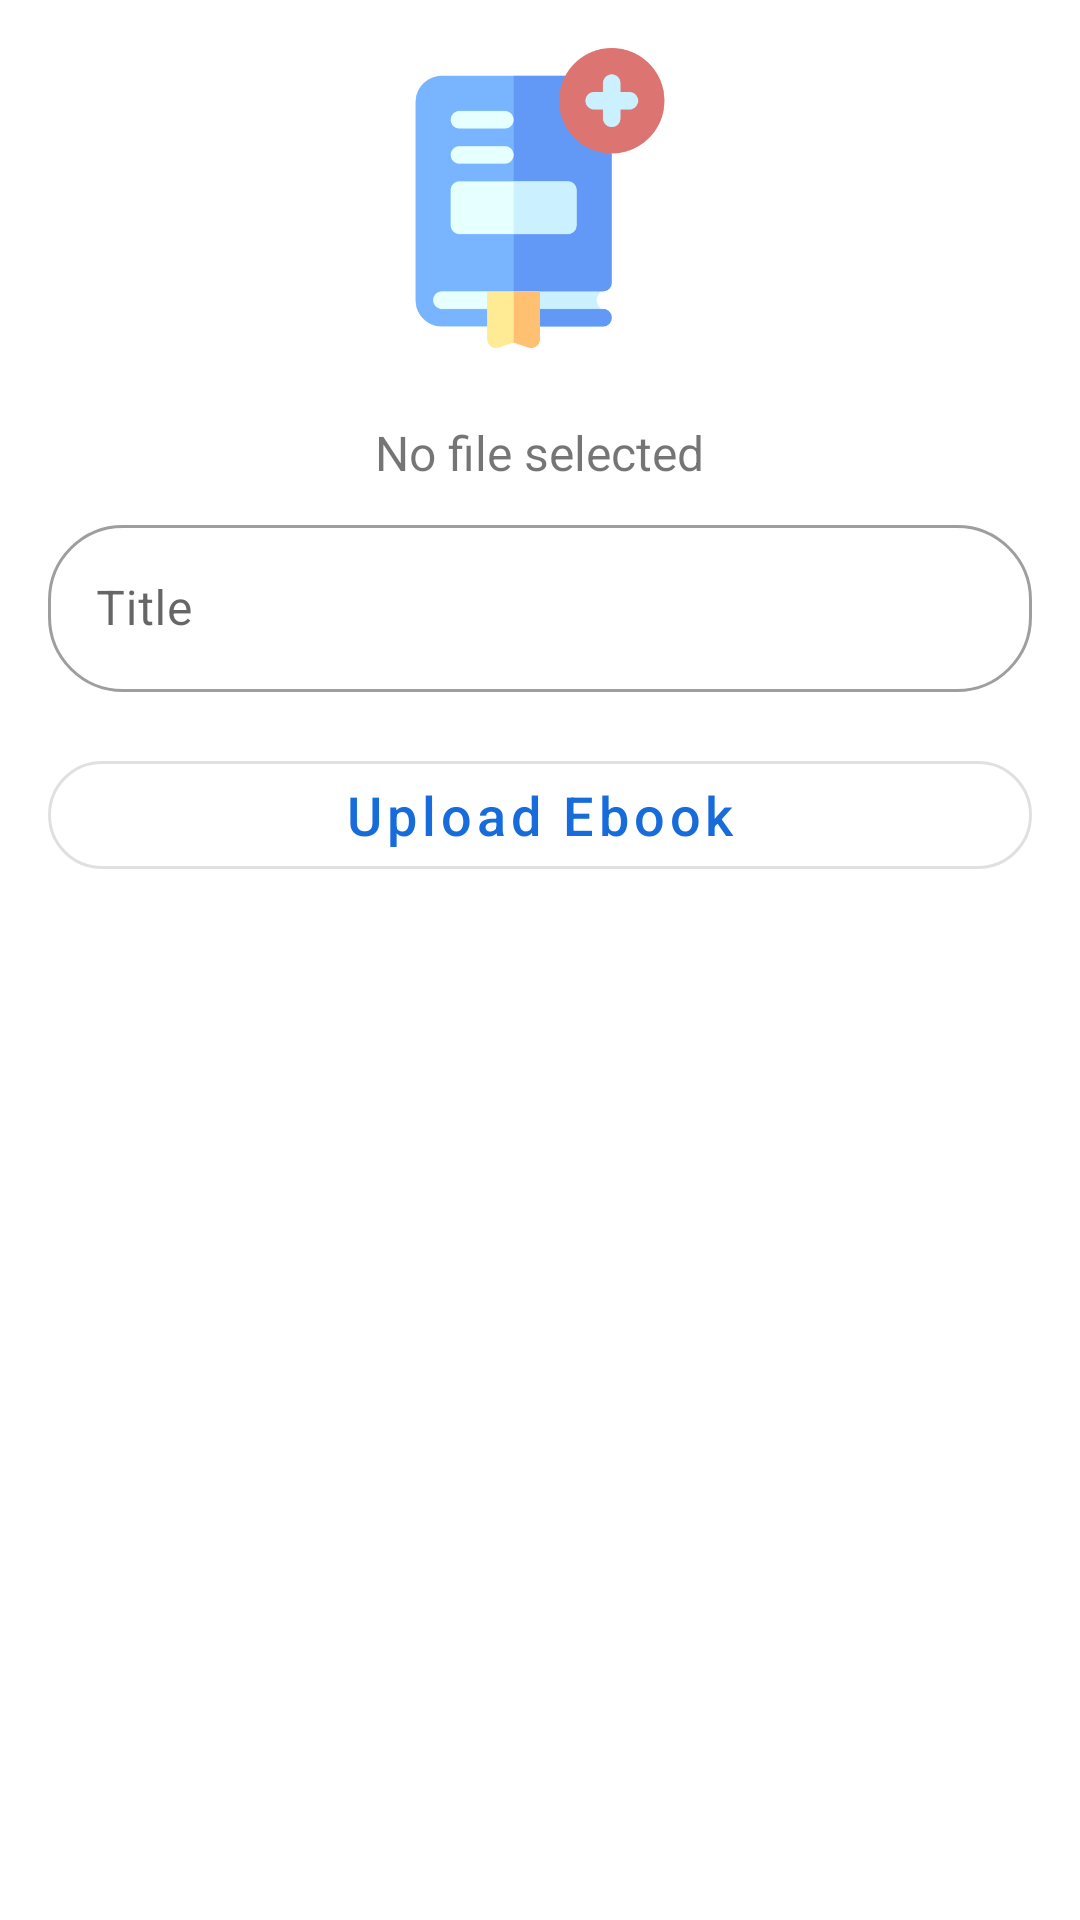

Named icons in this screenshot (1080px×1920px) and their centers, (x=x, y=y):
add book: (x=540, y=198)
